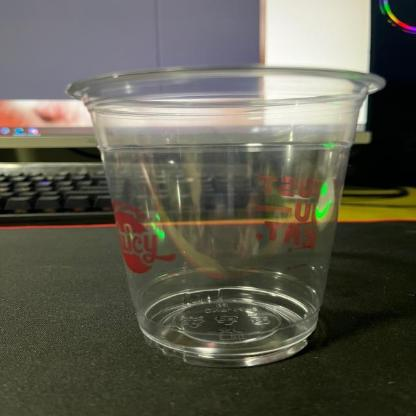Plastic Cup: (67, 64, 392, 372)
